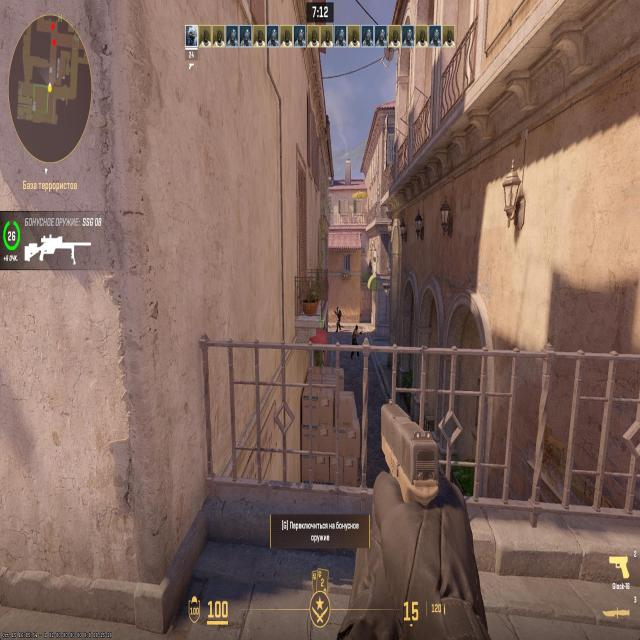CT: (335, 306, 341, 332)
CT_heat: (336, 307, 339, 315)
